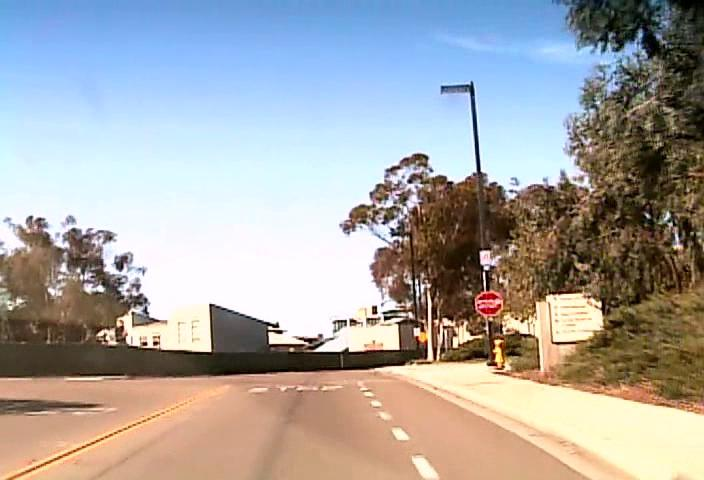stop: (474, 290, 503, 317)
